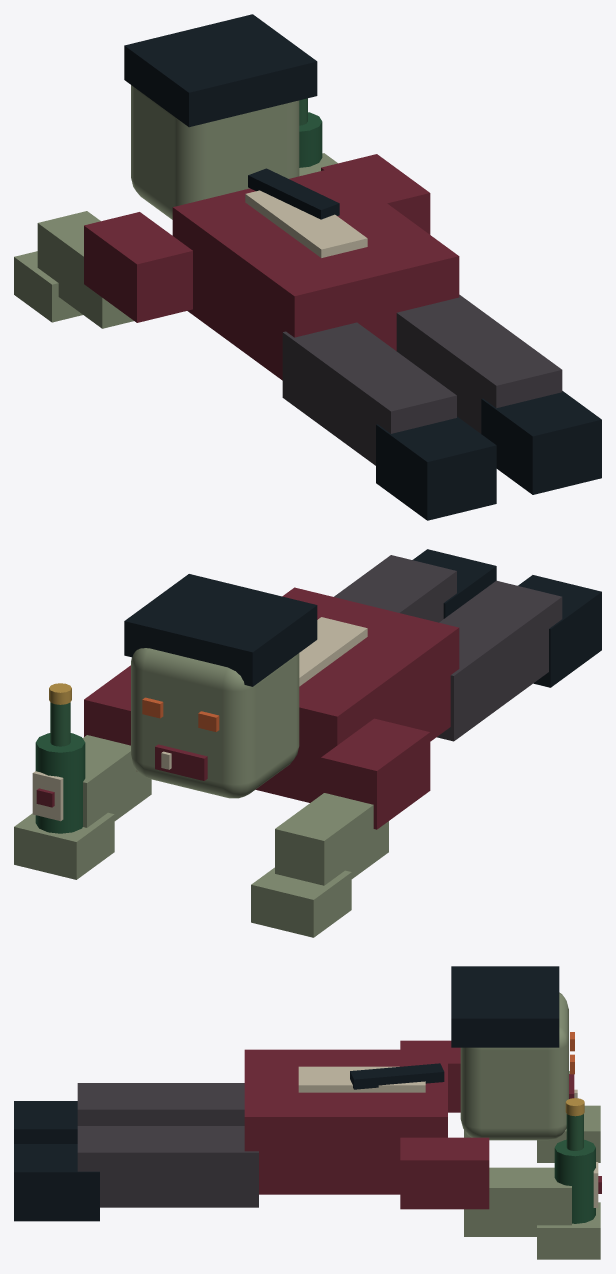
Rendered from enemy-crawler.glb.
3 renders of one model, top to bottom at view 1: azimuth 30°, elevation 25°; view 2: azimuth 150°, elevation 25°; view 3: azimuth 270°, elevation 25°, orthographic. The views are drawn at different scales.
Parts seen in each view (by area): view 1: Body, Head, LegL, LegR, ArmL, ArmR; view 2: Head, Body, ArmL, ArmR, LegL, LegR; view 3: Body, LegR, Head, ArmR, LegL, ArmL.
Part boxes in pixels (x1,y1,x2,y2): Body: [172, 167, 459, 380]; Head: [124, 14, 317, 219]; LegL: [282, 322, 496, 520]; LegR: [396, 294, 601, 494]; ArmL: [14, 211, 192, 328]; ArmR: [299, 98, 430, 234]; Head: [124, 574, 317, 798]; Body: [255, 587, 459, 802]; ArmL: [251, 718, 430, 937]; ArmR: [14, 665, 151, 879]; LegL: [437, 575, 601, 741]; LegR: [334, 549, 496, 622]; Body: [244, 1049, 447, 1194]; LegR: [14, 1126, 258, 1221]; Head: [451, 966, 577, 1140]; ArmR: [400, 1098, 601, 1259]; LegL: [14, 1083, 244, 1143]; ArmL: [400, 1040, 600, 1162].
Bounding box in the file's own units: 0.91 × 0.715 × 1.85.
